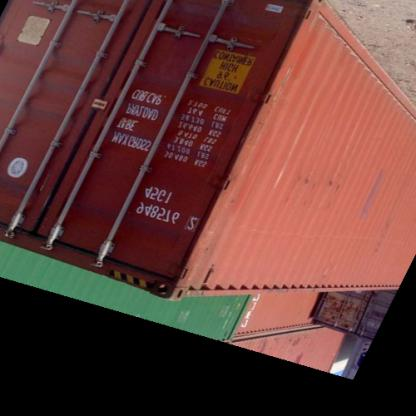Damage: (288, 172, 358, 202)
